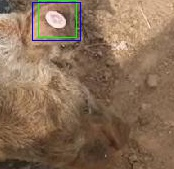text: (38, 0, 76, 37)
